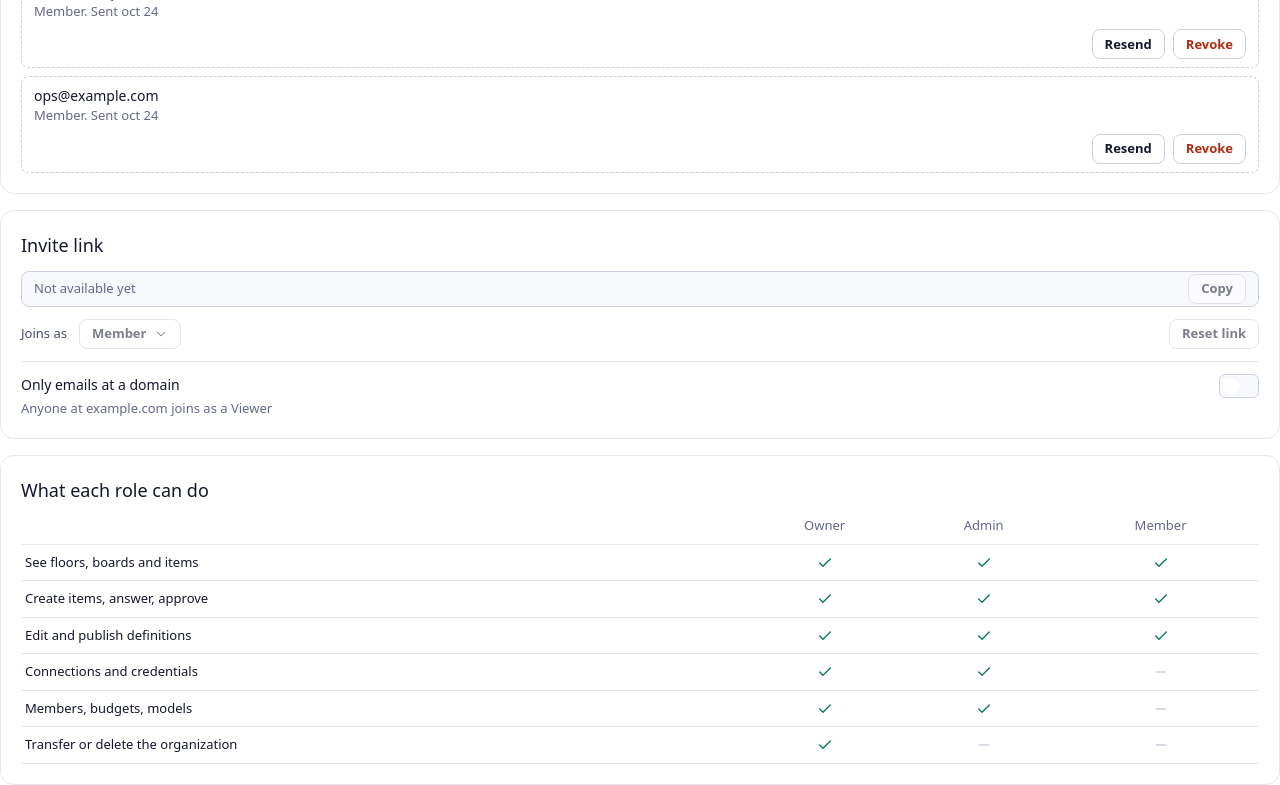
Scenario: sign-up by domain › shows a refusal under the switch and leaves the switch as it was
The width and height of the screenshot is (1280, 785).
(page scrolled)
Click the switch named "Restrict sign-up to a domain" at {"x": 1239, "y": 386}, box [1219, 374, 1259, 398]
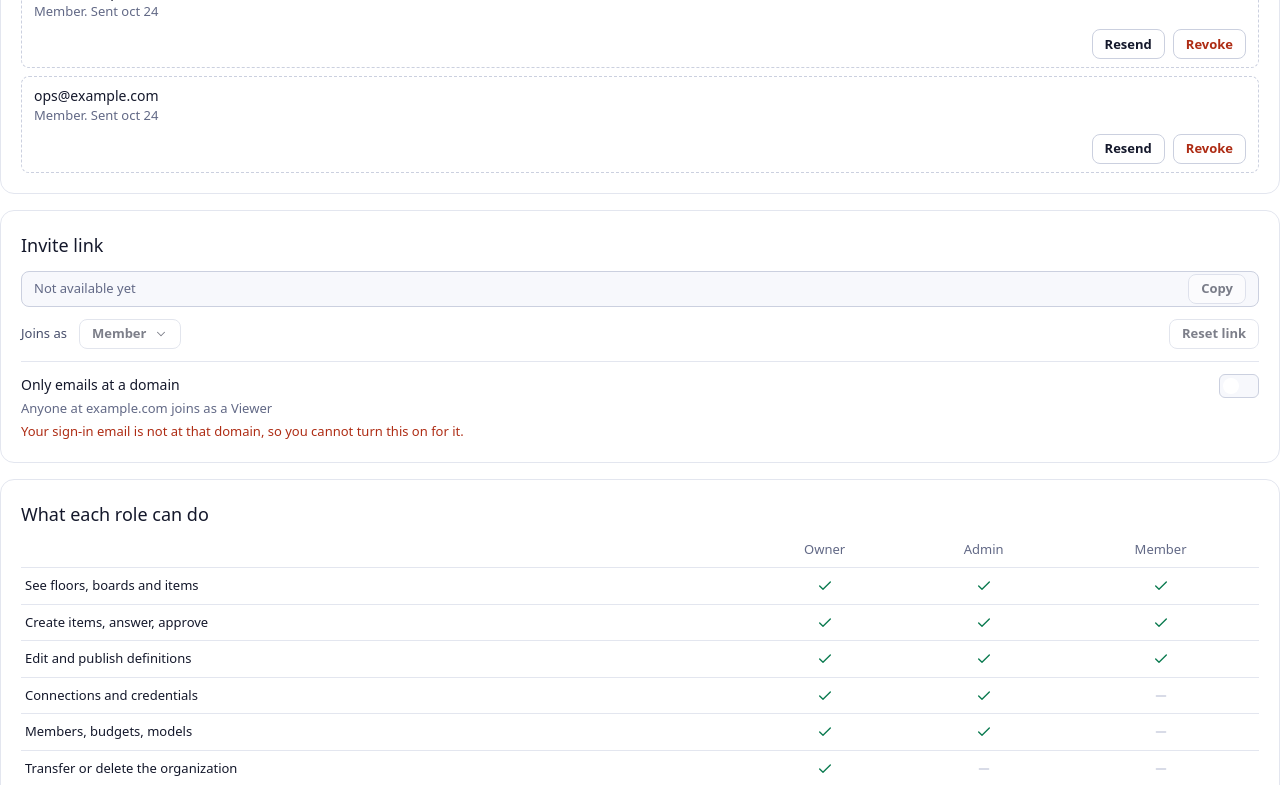
Expected: the message shows "Your sign-in email is not at that domain", [21, 422, 464, 440]
